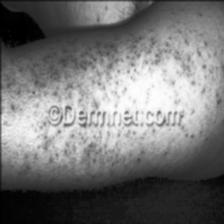Non-Cancerous Skin Condition: (0, 28, 224, 163)
